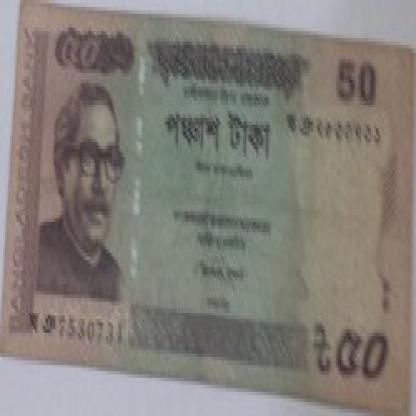Fifty taka: (316, 319, 401, 395), (58, 28, 108, 86)
